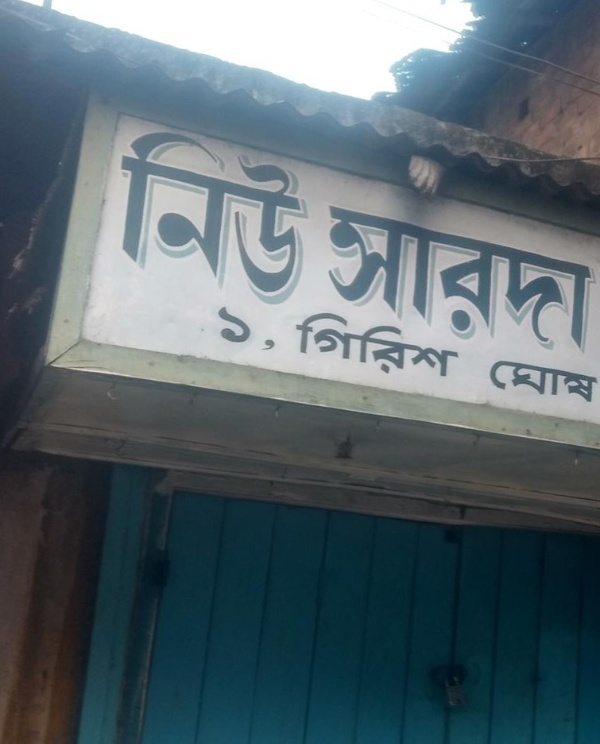text: (129, 113, 144, 311), (145, 113, 160, 311), (161, 113, 176, 311), (177, 113, 192, 311), (193, 113, 208, 311), (209, 113, 224, 311), (225, 113, 240, 311), (241, 113, 256, 311), (257, 113, 272, 311), (273, 113, 288, 311), (289, 113, 304, 311), (337, 201, 352, 362), (353, 201, 368, 362), (369, 201, 384, 362), (385, 201, 400, 362), (401, 201, 416, 362), (417, 201, 432, 362), (433, 201, 448, 362), (449, 201, 464, 362), (465, 201, 480, 362), (481, 201, 496, 362), (497, 201, 512, 362), (513, 201, 528, 362), (529, 201, 544, 362), (545, 201, 560, 362), (561, 201, 576, 362), (577, 201, 592, 362), (305, 113, 315, 311), (328, 201, 336, 362), (305, 307, 320, 388), (321, 307, 336, 388), (337, 307, 352, 388), (353, 307, 368, 388), (369, 307, 384, 388), (385, 307, 400, 388), (401, 307, 416, 388), (417, 307, 432, 388), (433, 307, 448, 388), (449, 307, 461, 388), (124, 113, 128, 311), (225, 304, 240, 356), (241, 304, 256, 356), (257, 304, 272, 356), (273, 304, 288, 356), (497, 358, 512, 407), (513, 358, 528, 407), (529, 358, 544, 407), (545, 358, 560, 407), (561, 358, 576, 407), (577, 358, 592, 407), (297, 307, 304, 388), (593, 201, 596, 362), (217, 304, 224, 356), (593, 358, 599, 407), (491, 358, 496, 407), (289, 304, 290, 356)
